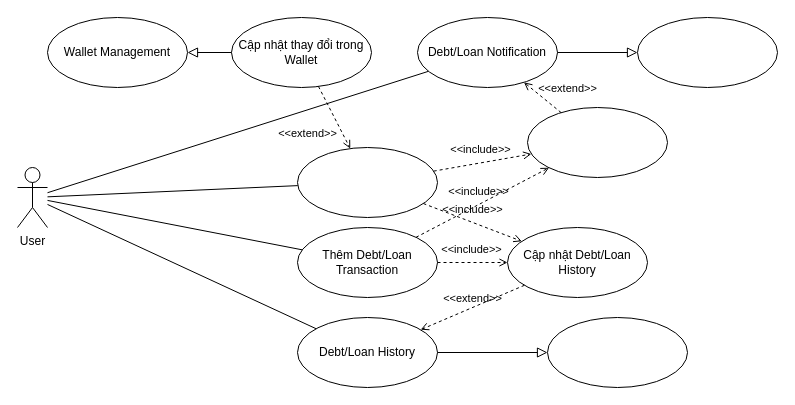
The diagram is 795 pixels wide and 405 high, and some of its shapes have lost their labels. The shapes that lost their labels are listed below. From the top down, each one's centre as x and y in pixels, then its label:
At pixel 707 52: "Notification Management".
At pixel 597 142: "Cập nhật Debt/Loan Notification".
At pixel 367 182: "Thêm Debt/Loan".
At pixel 617 352: "Biểu đồ và thống kê".
